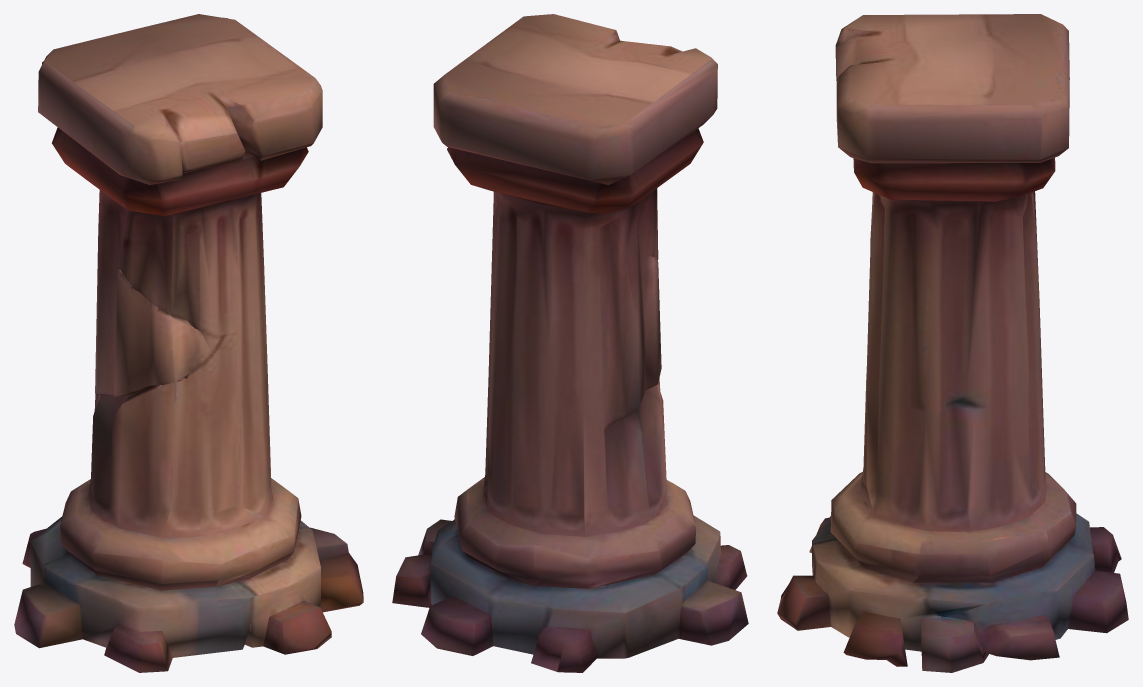
Rendered from sz-pillar-broken-a.glb.
The picture shows the model from 3 angles, left to right: view 1: azimuth 30°, elevation 25°; view 2: azimuth 150°, elevation 25°; view 3: azimuth 270°, elevation 25°; orthographic projection.
Visible parts, largest first — view 1: geometry_0; view 2: geometry_0; view 3: geometry_0.
Boxes of the visible parts, x1,y1,x2,y2 form: geometry_0: [14, 14, 363, 672]; geometry_0: [392, 14, 748, 672]; geometry_0: [777, 14, 1128, 672].
Size of the model in its own units: 0.6293 by 1 by 0.5953.
1 material, 1 textured.
